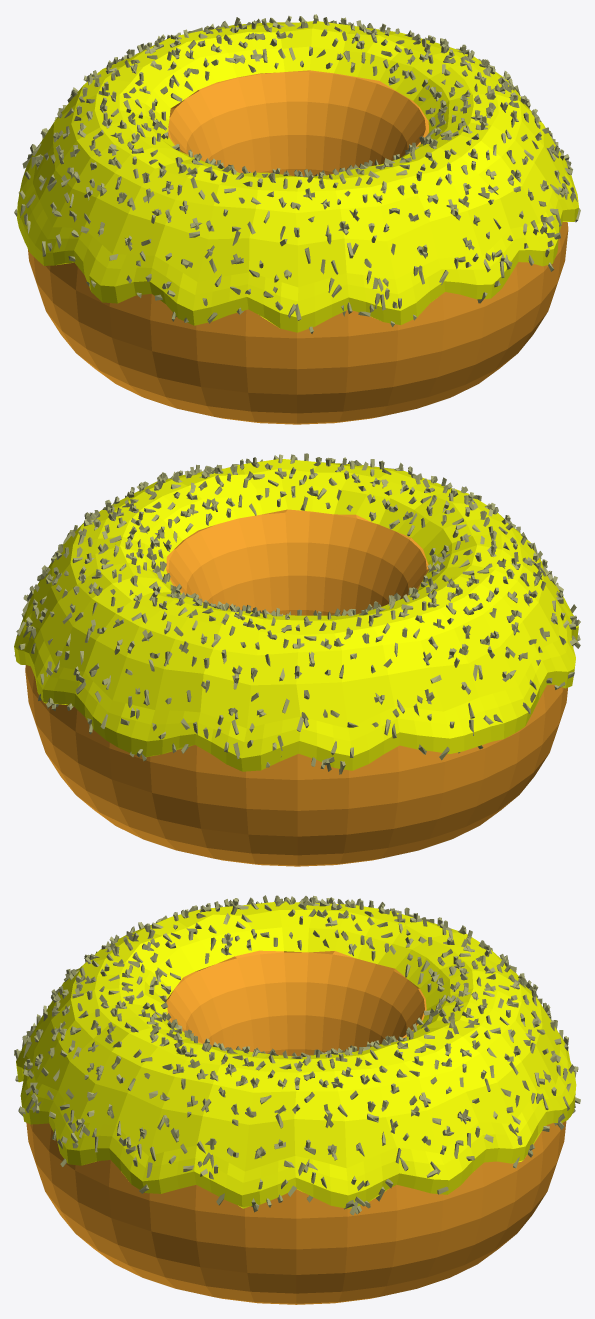
Rendered from donutSurpriseYellow.glb.
The picture shows the model from 3 angles, top to bottom: view 1: azimuth 30°, elevation 25°; view 2: azimuth 150°, elevation 25°; view 3: azimuth 270°, elevation 25°; orthographic projection.
Parts seen in each view (by area): view 1: donut.001; view 2: donut.001; view 3: donut.001.
Boxes of the visible parts, x1,y1,x2,y2 form: donut.001: [14, 14, 580, 424]; donut.001: [14, 453, 580, 866]; donut.001: [14, 895, 580, 1304].
Bounding box in the file's own units: 0.991 × 0.4806 × 0.9999.
